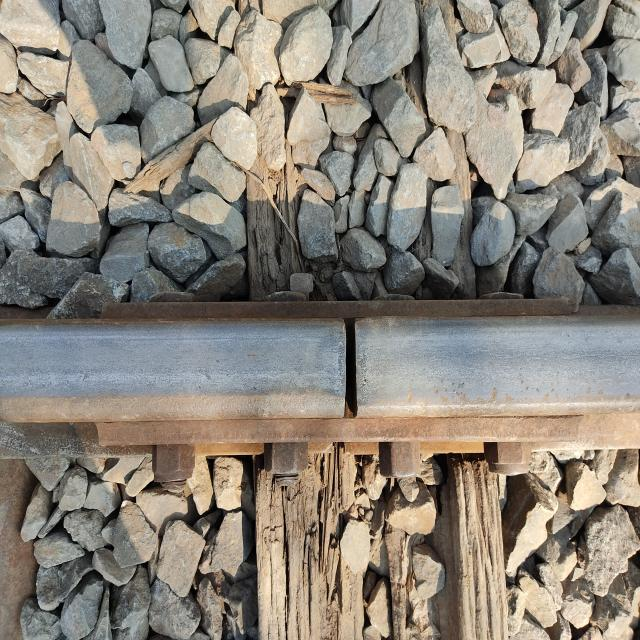defective: (276, 249, 525, 492)
